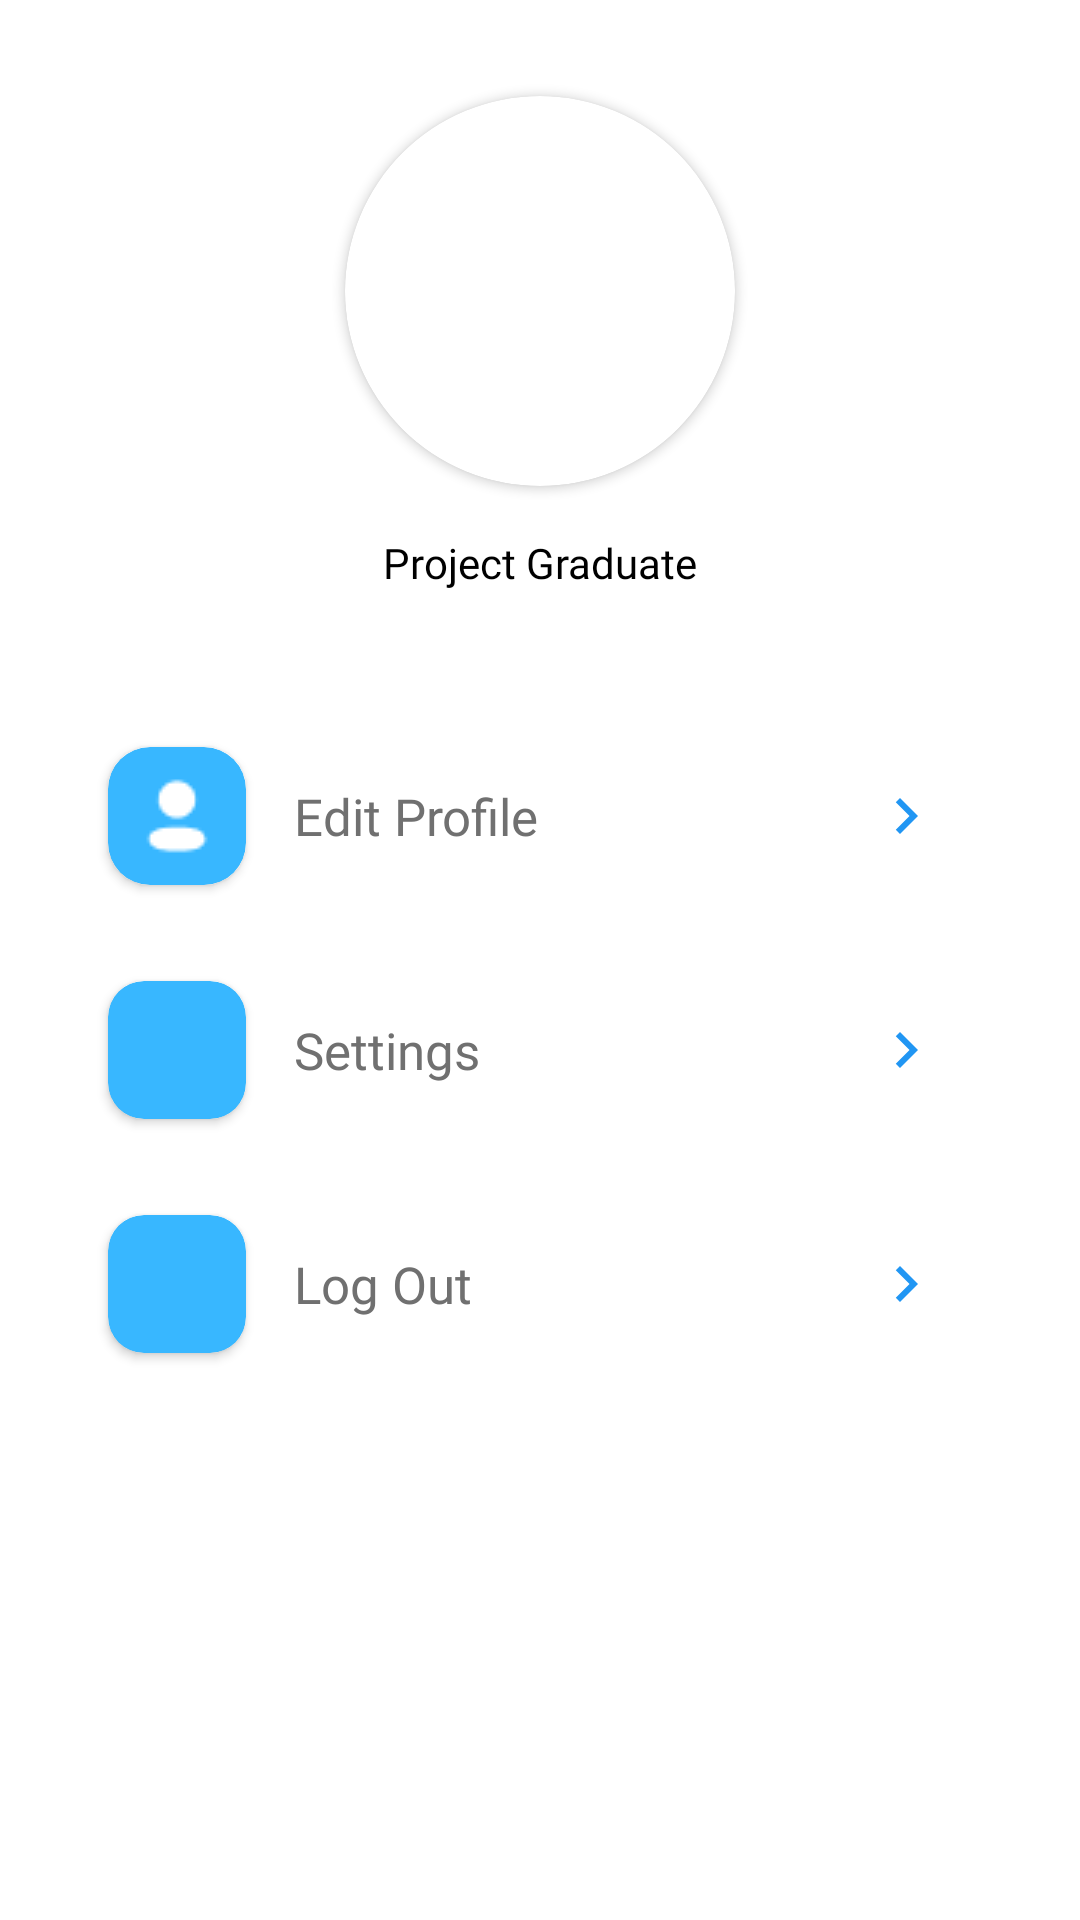

Named icons in this screenshot (1080px x 1920px) and their centers, [x,y]:
navigate next: [907,816], [907,1050], [907,1284]
profilemenu: [177,816]
